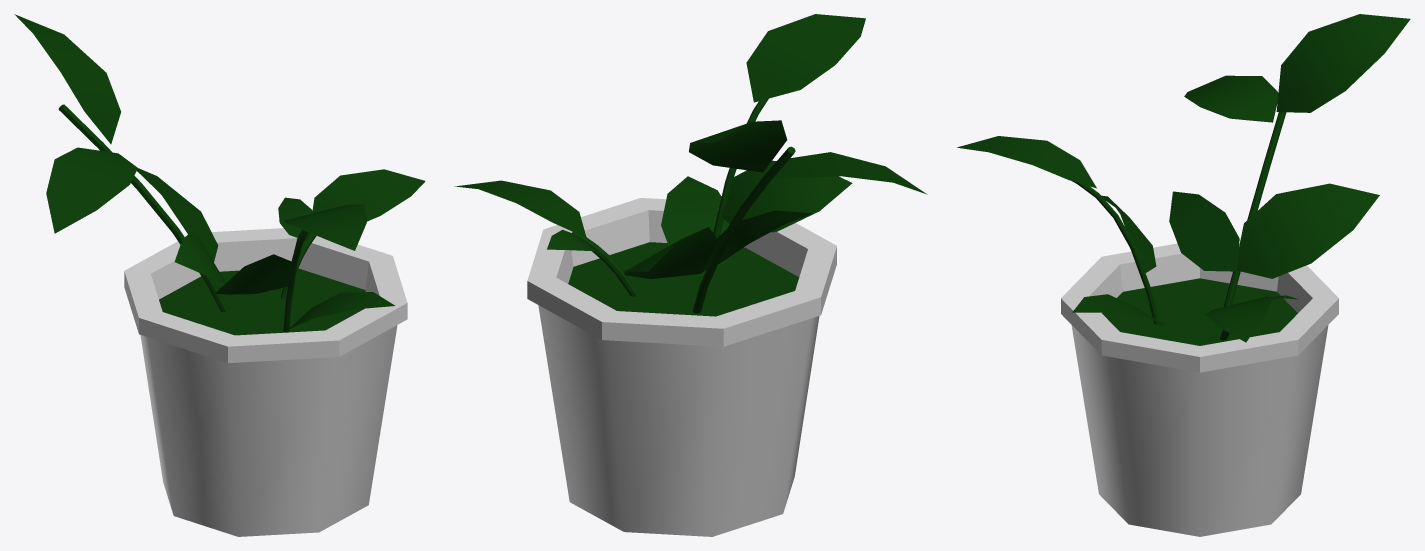
File: 3D_Prop_Plant.fbx
The picture shows the model from 3 angles, left to right: view 1: azimuth 30°, elevation 25°; view 2: azimuth 150°, elevation 25°; view 3: azimuth 270°, elevation 25°; orthographic projection. The views are drawn at different scales.
Parts seen in each view (by area): view 1: Plant; view 2: Plant; view 3: Plant.
Boxes of the visible parts, x1,y1,x2,y2 form: Plant: (14,14,425,536); Plant: (454,14,927,536); Plant: (957,14,1410,536).
Bounding box in the file's own units: 199 × 206 × 206.
